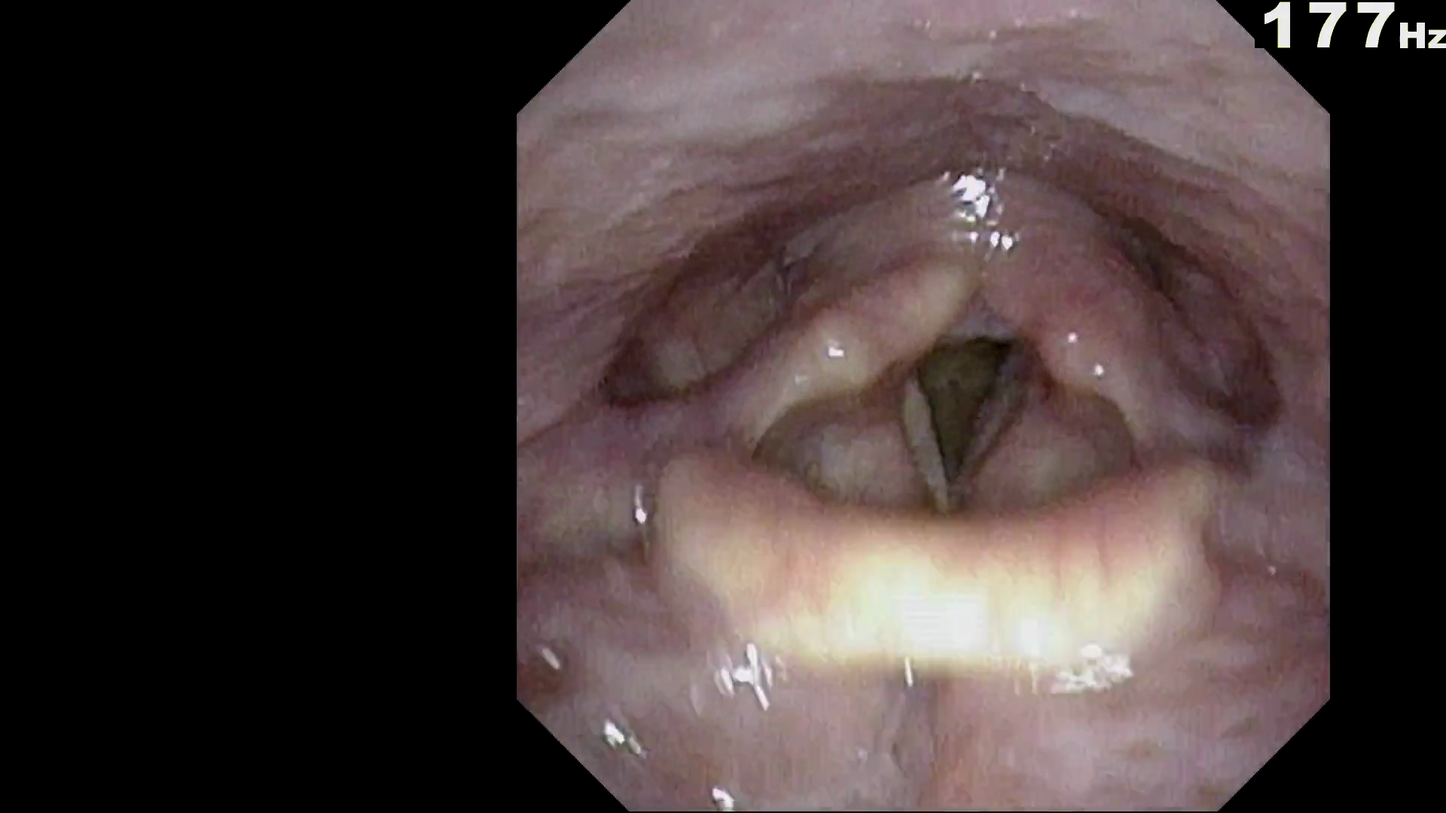epiglottis: (648, 423, 1246, 702)
trachea: (862, 287, 1048, 521)
